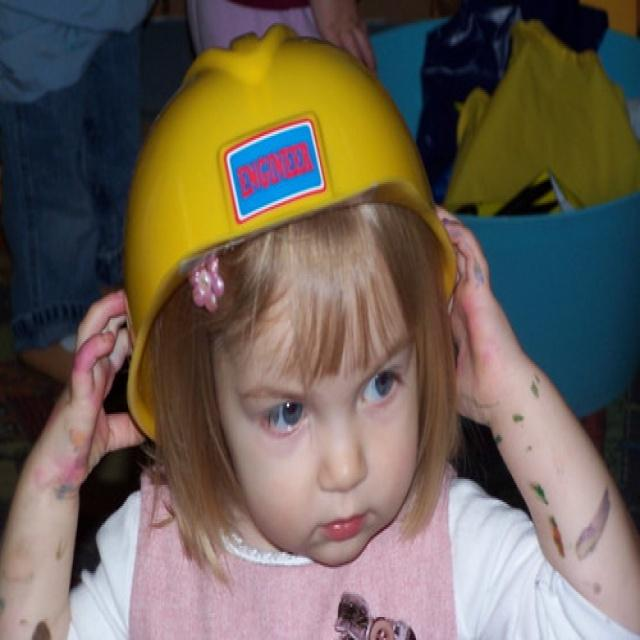helmet: (121, 32, 449, 420)
